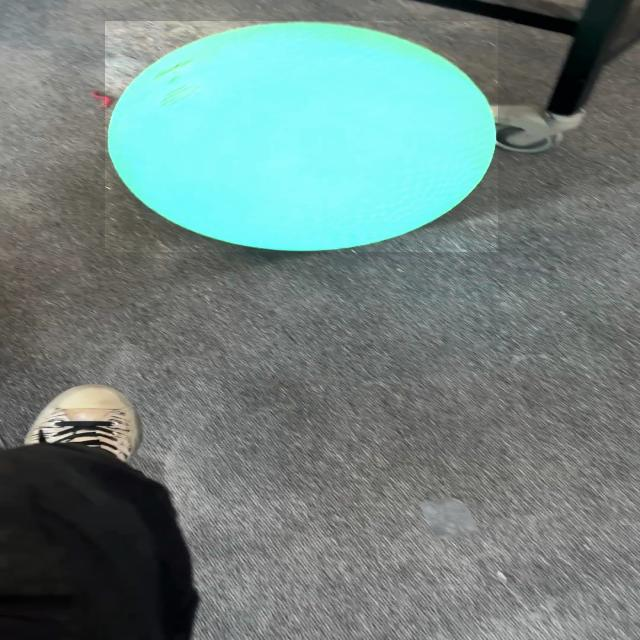Algae: (105, 21, 498, 252)
